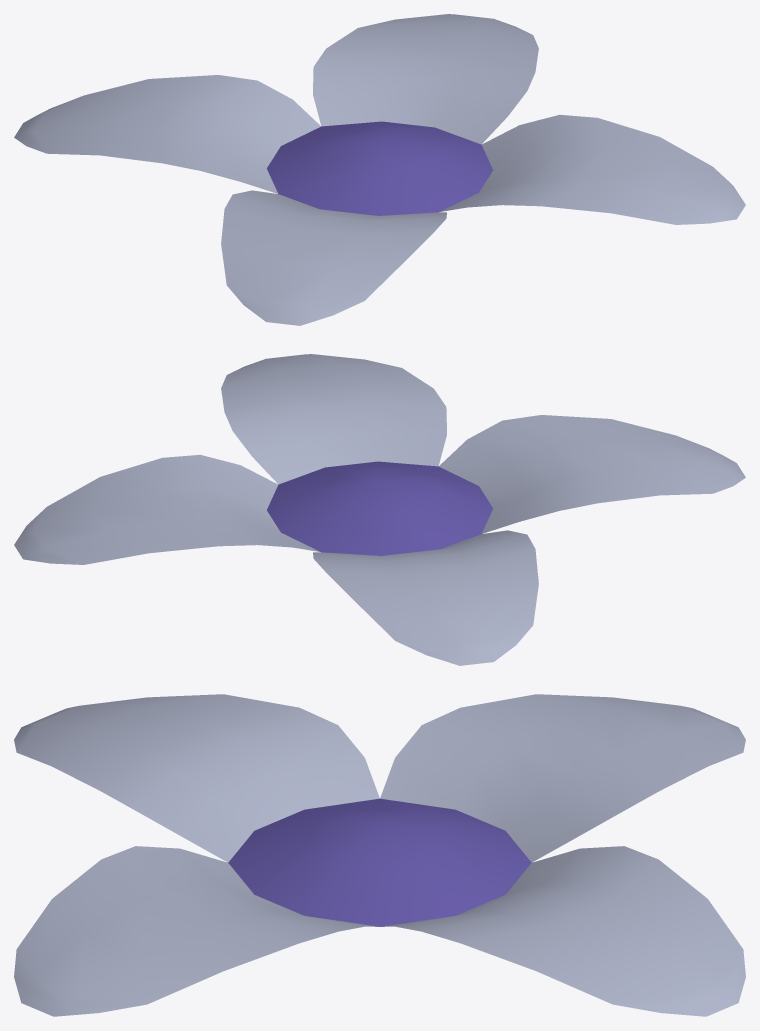
Rendered from flower1.glb.
3 renders of one model, top to bottom at view 1: azimuth 30°, elevation 25°; view 2: azimuth 150°, elevation 25°; view 3: azimuth 270°, elevation 25°, orthographic. The views are drawn at different scales.
Visible parts, largest first — view 1: Flower1; view 2: Flower1; view 3: Flower1.
Boxes of the visible parts, x1,y1,x2,y2 form: Flower1: (14, 14, 745, 325); Flower1: (14, 354, 745, 665); Flower1: (14, 694, 745, 1016).
Size of the model in its own units: 0.214 by 0.0131 by 0.214.
